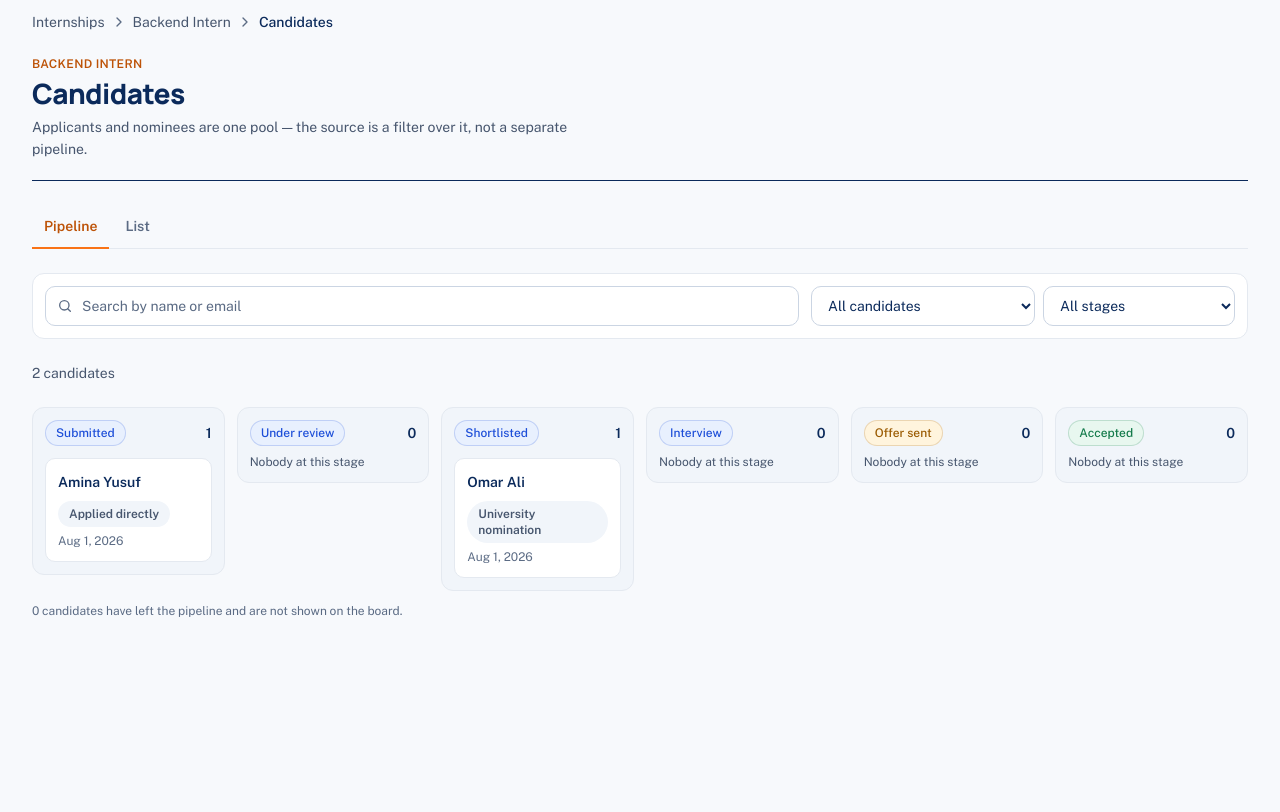
Test: CandidatePoolPage › narrows by stage on the client, because the endpoint has no stage filter
Check: the text "Amina Yusuf" is shown, box [58, 474, 141, 490]
Step 1. Select "Shortlisted" in the dropdown named "Stage" → x=1139, y=306, box [1043, 286, 1235, 326]
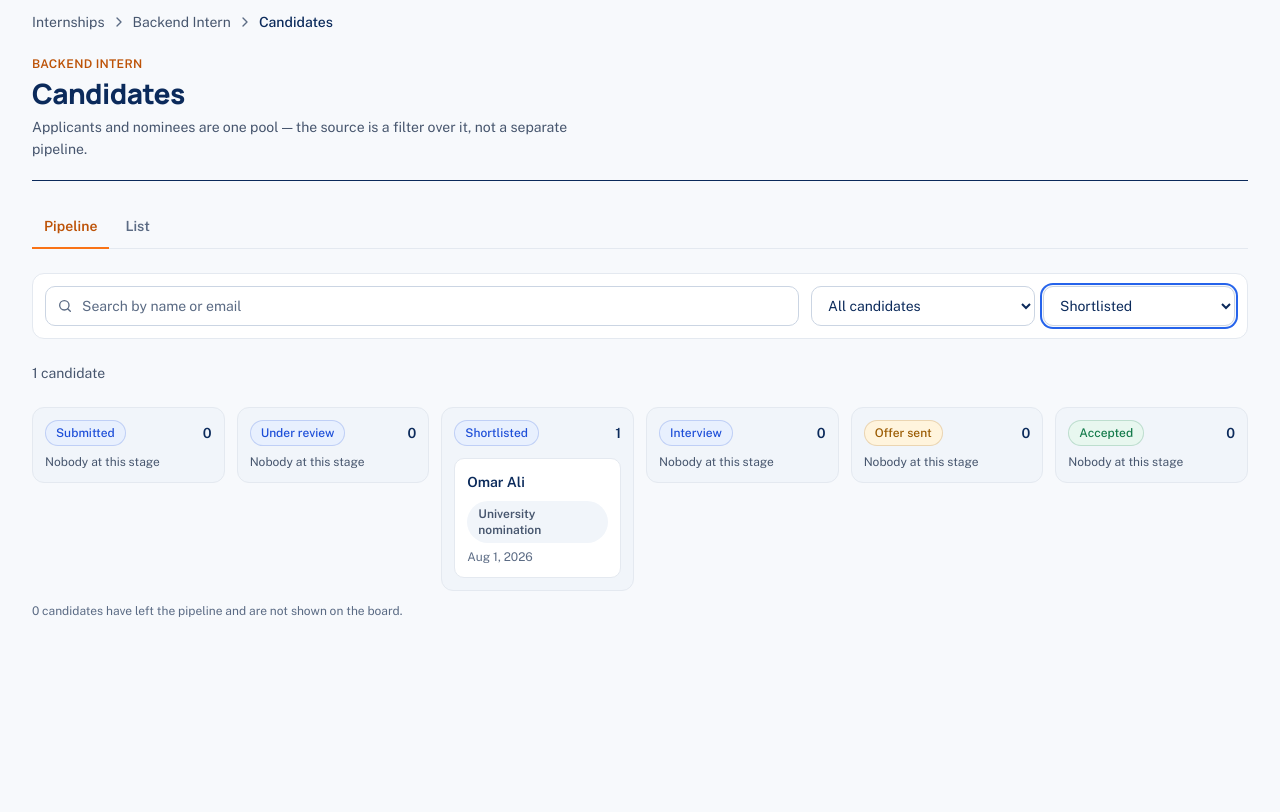
Check: the text "Omar Ali" is shown, box [467, 474, 525, 490]
Check: the link "Amina Yusuf" is gone
